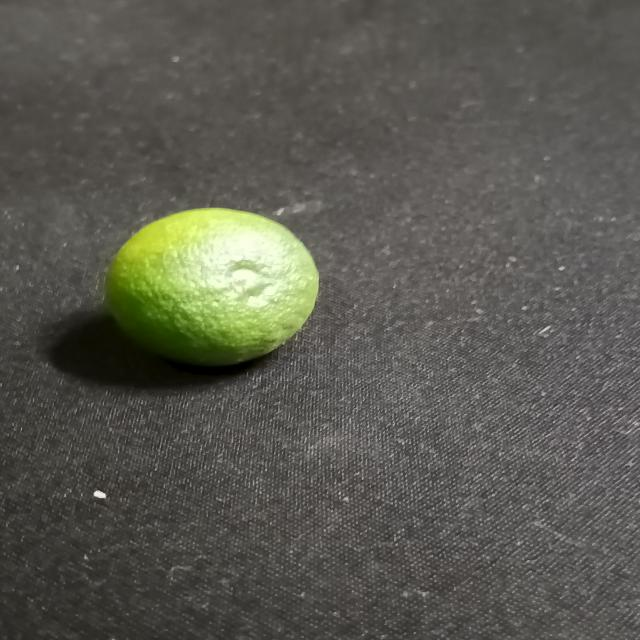heathy: (104, 206, 325, 372)
